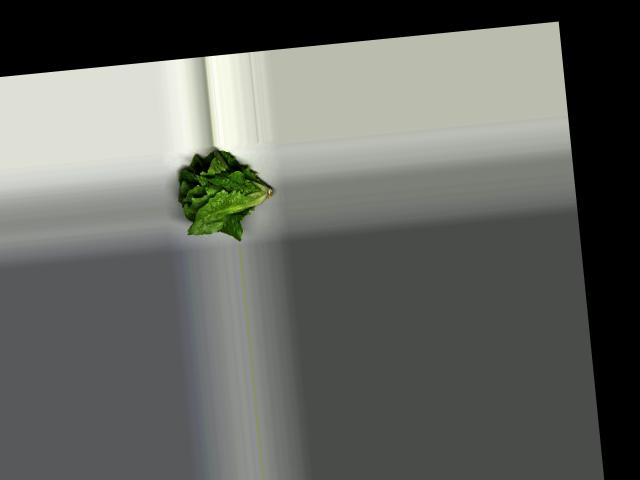lettuce: (173, 144, 280, 246)
